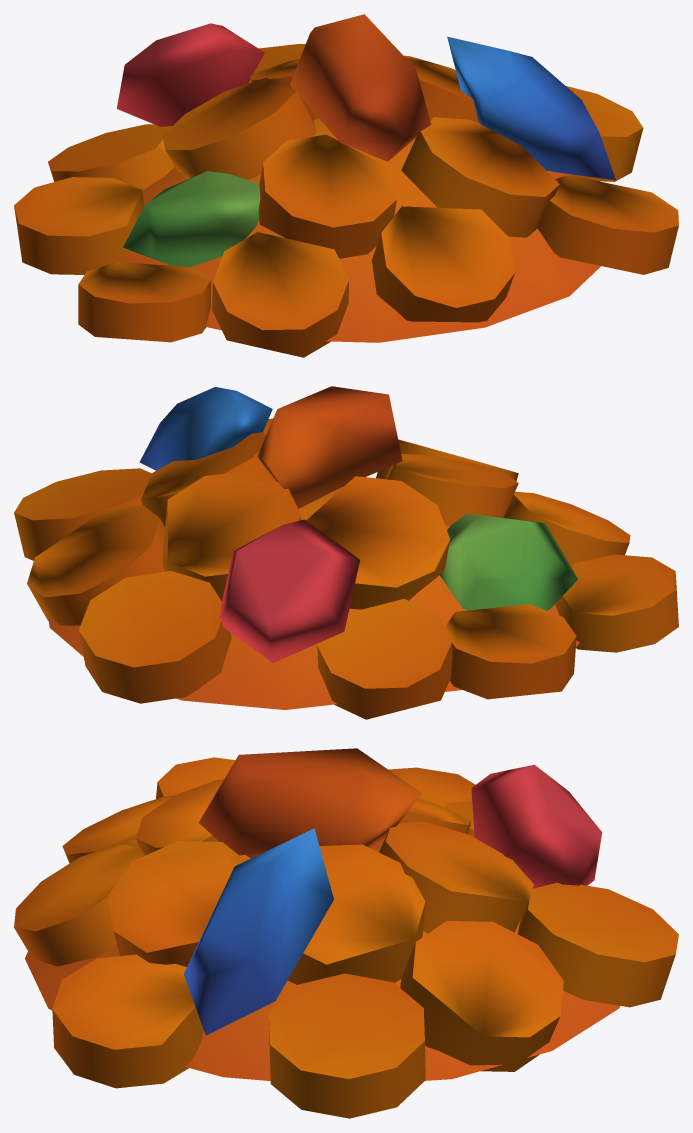
Rendered from hl_goldpile.glb.
3 views of the same model, one above another, from view 1: azimuth 30°, elevation 25°; view 2: azimuth 150°, elevation 25°; view 3: azimuth 270°, elevation 25° (orthographic). The views are drawn at different scales.
Visible parts, largest first — view 1: hl_goldpile; view 2: hl_goldpile; view 3: hl_goldpile.
Part boxes in pixels (left/top/right/bottom): hl_goldpile: left=14, top=14, right=678, bottom=357; hl_goldpile: left=14, top=386, right=678, bottom=719; hl_goldpile: left=14, top=748, right=678, bottom=1118.
Bounding box in the file's own units: 1.86 × 0.5963 × 1.66.
